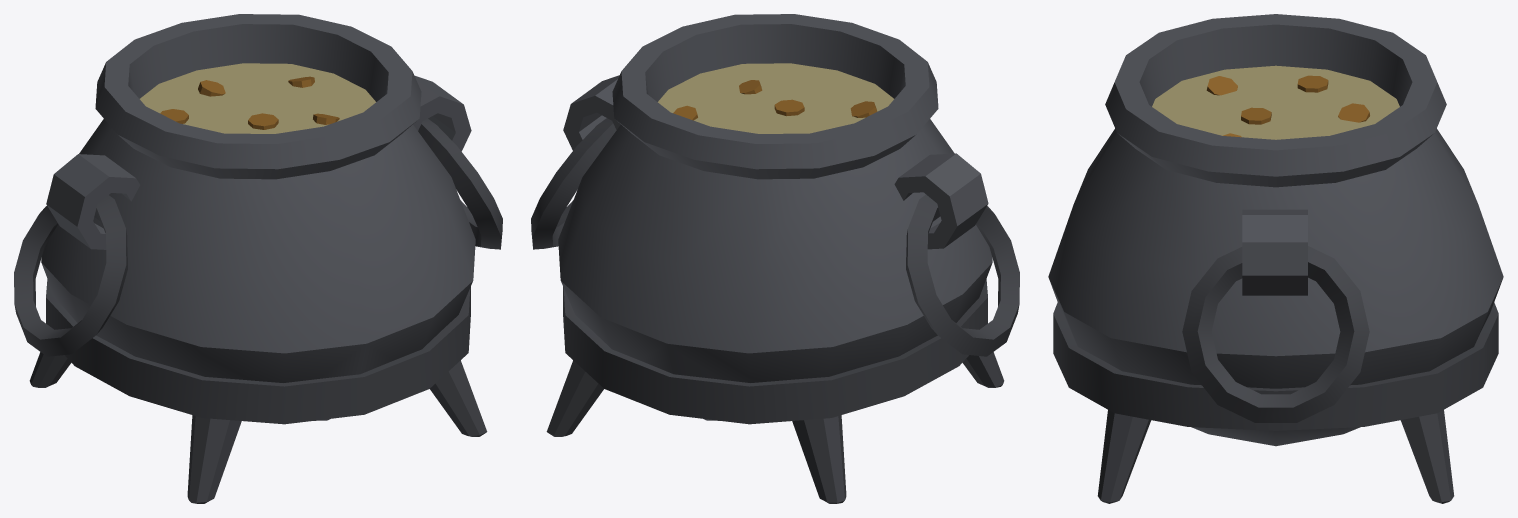
File: Cauldron.glb
3 renders of one model, left to right at view 1: azimuth 30°, elevation 25°; view 2: azimuth 150°, elevation 25°; view 3: azimuth 270°, elevation 25°, orthographic. The views are drawn at different scales.
Visible parts, largest first — view 1: Cauldron; view 2: Cauldron; view 3: Cauldron.
Part boxes in pixels (left/top/right/bottom): Cauldron: left=14, top=14, right=502, bottom=503; Cauldron: left=531, top=14, right=1019, bottom=503; Cauldron: left=1048, top=14, right=1503, bottom=503.
Bounding box in the file's own units: 0.3607 × 0.2518 × 0.2988.
